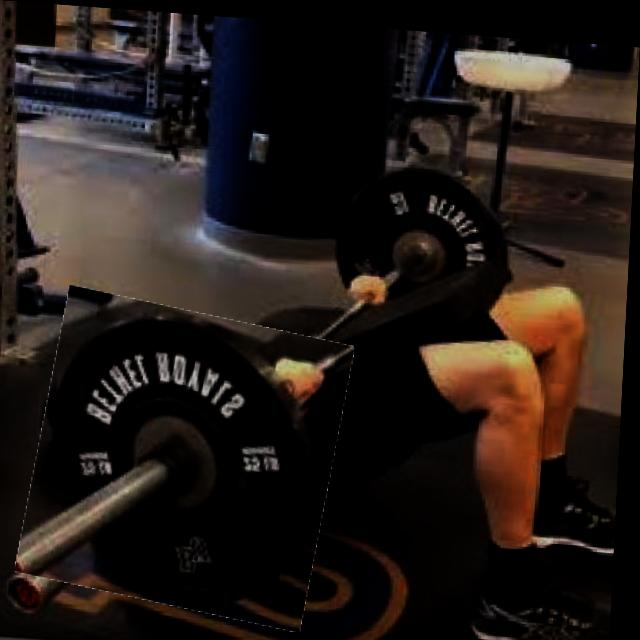barbell: (30, 293, 350, 621)
